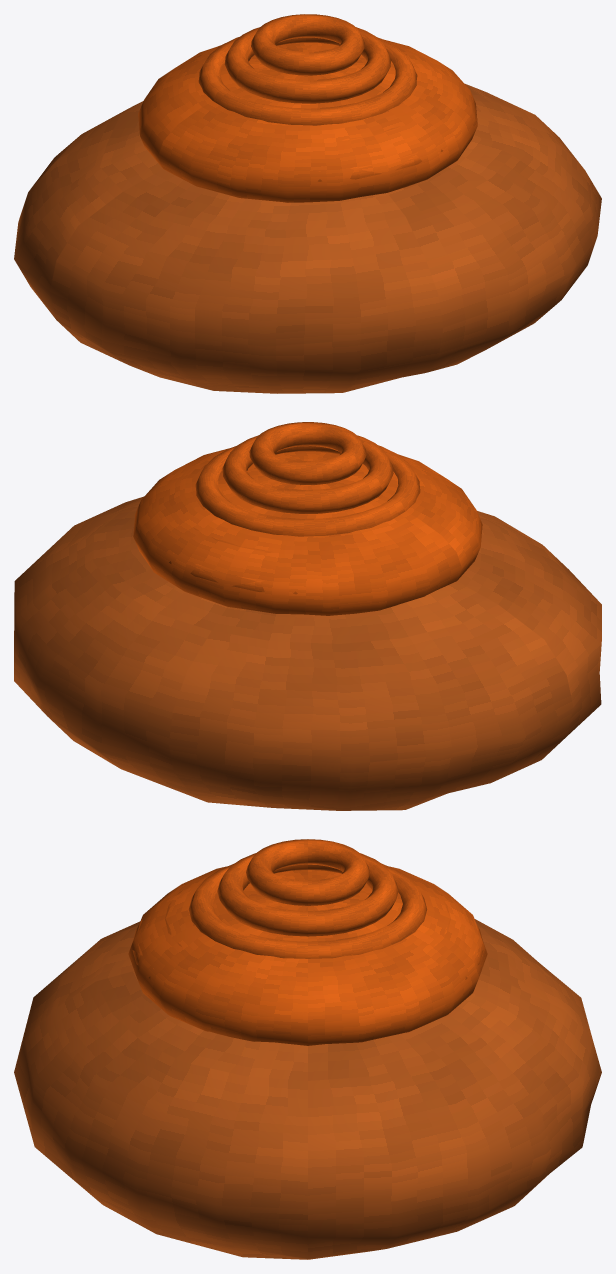
The model's file is bread_pumpkin_bun.glb.
3 renders of one model, top to bottom at view 1: azimuth 30°, elevation 25°; view 2: azimuth 150°, elevation 25°; view 3: azimuth 270°, elevation 25°, orthographic. The views are drawn at different scales.
Visible parts, largest first — view 1: ふっくらした生地.009, かぼちゃあん, かぼちゃの絞り.003, かぼちゃの絞り.002, かぼちゃの絞り.004; view 2: ふっくらした生地.009, かぼちゃあん, かぼちゃの絞り.003, かぼちゃの絞り.002, かぼちゃの絞り.004, かぼちゃの絞り; view 3: ふっくらした生地.009, かぼちゃあん, かぼちゃの絞り.003, かぼちゃの絞り.002, かぼちゃの絞り.004.
Part boxes in pixels (bbox=[...]): ふっくらした生地.009: bbox=[14, 84, 601, 393]; かぼちゃあん: bbox=[138, 40, 477, 202]; かぼちゃの絞り.003: bbox=[224, 27, 391, 103]; かぼちゃの絞り.002: bbox=[198, 37, 417, 125]; かぼちゃの絞り.004: bbox=[251, 14, 364, 75]; ふっくらした生地.009: bbox=[14, 496, 601, 810]; かぼちゃあん: bbox=[133, 448, 482, 615]; かぼちゃの絞り.003: bbox=[222, 435, 393, 513]; かぼちゃの絞り.002: bbox=[195, 445, 420, 536]; かぼちゃの絞り.004: bbox=[249, 422, 366, 484]; かぼちゃの絞り: bbox=[169, 553, 297, 594]; ふっくらした生地.009: bbox=[14, 919, 601, 1259]; かぼちゃあん: bbox=[128, 866, 487, 1045]; かぼちゃの絞り.003: bbox=[217, 853, 398, 936]; かぼちゃの絞り.002: bbox=[189, 864, 426, 958]; かぼちゃの絞り.004: bbox=[246, 839, 369, 905].
Size of the model in its own units: 0.7929 by 0.4556 by 0.72.
2 materials, 2 textured.
